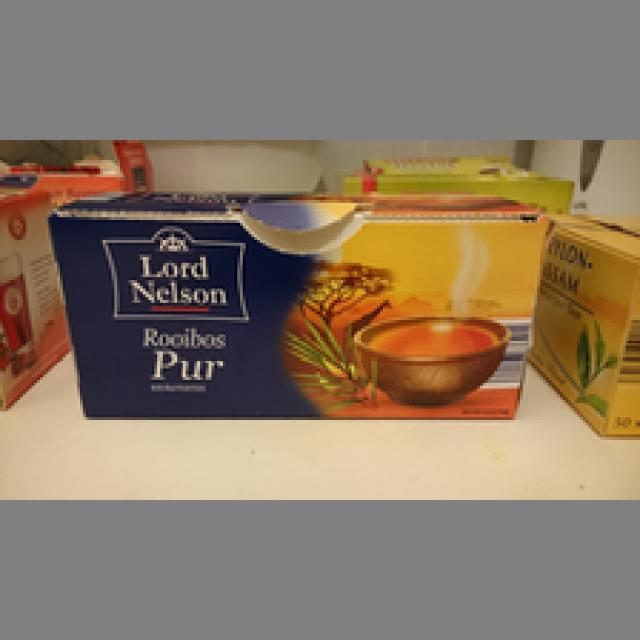groceries: (46, 186, 540, 420)
